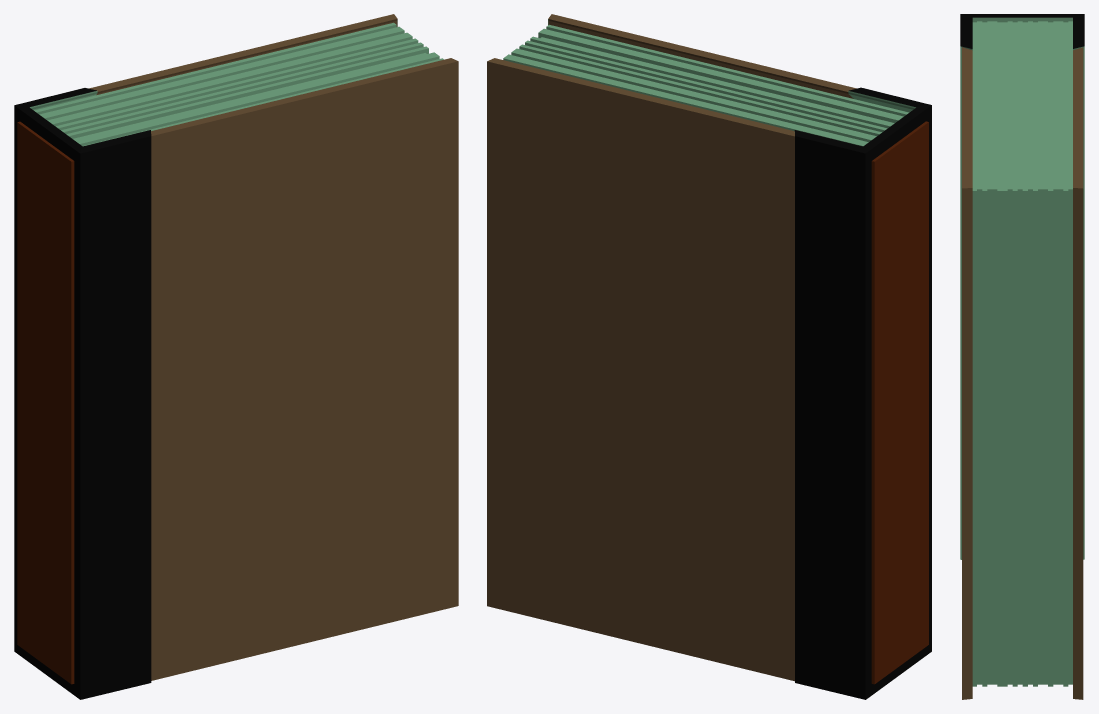
File: DeskBook2.fbx
The picture shows the model from 3 angles, left to right: view 1: azimuth 30°, elevation 25°; view 2: azimuth 150°, elevation 25°; view 3: azimuth 270°, elevation 25°; orthographic projection. The views are drawn at different scales.
Parts seen in each view (by area): view 1: Book.004; view 2: Book.004; view 3: Book.004.
Part boxes in pixels (bbox=[...]): Book.004: bbox=[14, 14, 458, 699]; Book.004: bbox=[487, 14, 931, 699]; Book.004: bbox=[960, 14, 1084, 699].
Bounding box in the file's own units: 128 × 175 × 38.36.
